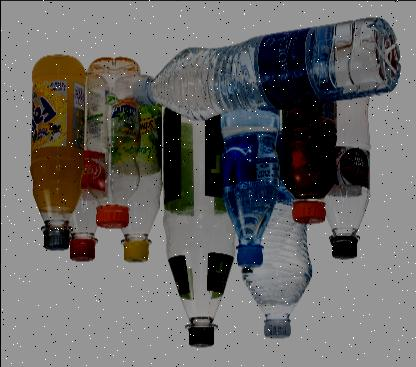Plastic Bottle: (130, 15, 402, 127), (158, 89, 244, 349), (235, 117, 312, 341), (215, 86, 281, 270), (80, 56, 146, 234), (313, 70, 371, 264), (29, 51, 83, 253), (277, 80, 337, 230)
